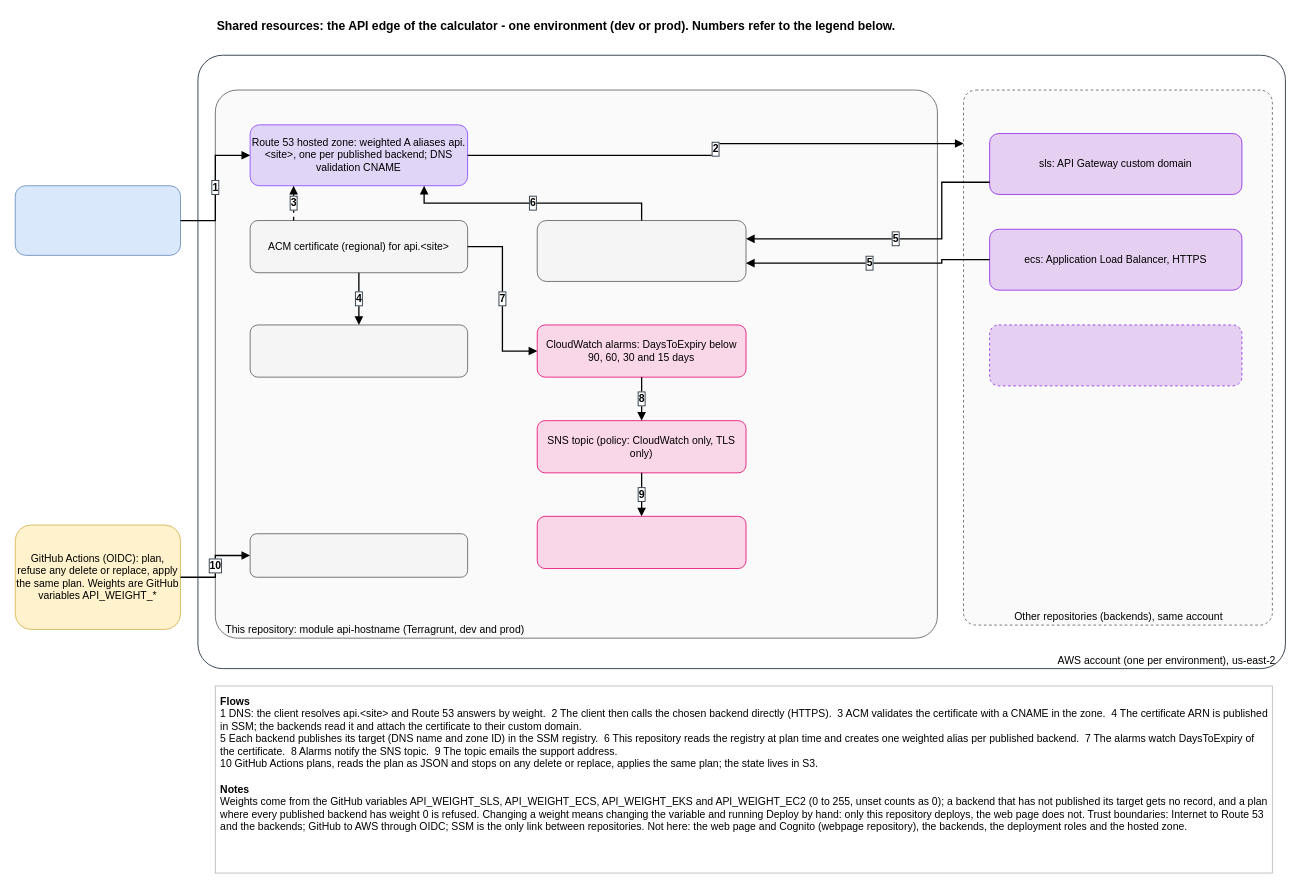
The diagram is 1301 pixels wide and 888 high, and some of its shapes have lost their labels. The shapes that lost their labels are listed below. From the top down, each one's centre as x and y in pixels, then its label:
At point 97,220: "Client: browser of the web page (uses only the host name api.<site>)".
At point 641,250: "SSM registry /oecalc/<env>/api-backends/<name>/{dns-name, hosted-zone-id}".
At point 358,350: "SSM /oecalc/<env>/api-certificate-arn".
At point 1115,355: "eks and ec2: later, same contract (dashed)".
At point 358,555: "S3 state bucket: one state file per unit".
At point 641,542: "Email subscription to the support address (the owner confirms it)".
